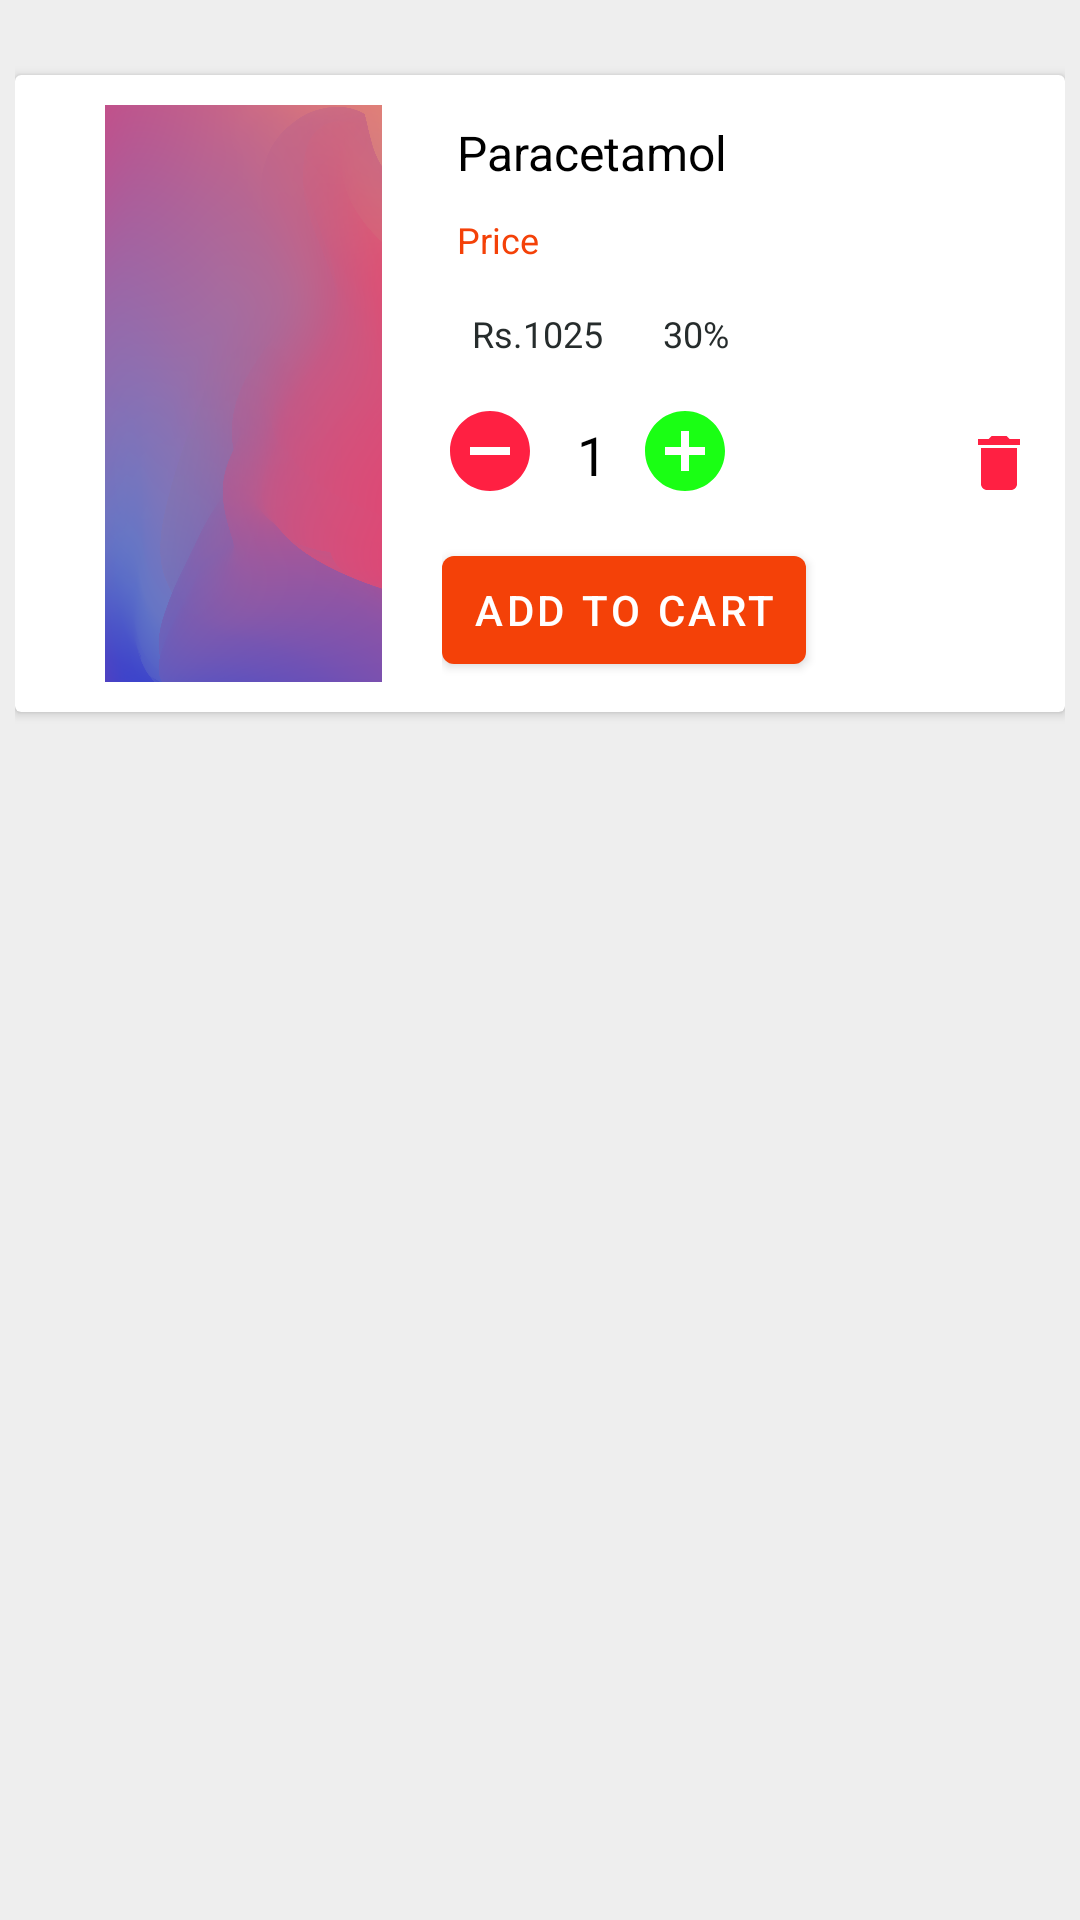

Named icons in this screenshot (1080px x 1920px) and their bounding boxes, (x1, y1, x2, y2):
delete: (978, 436, 1020, 490)
minus: (450, 411, 530, 491)
plus: (645, 411, 725, 491)
